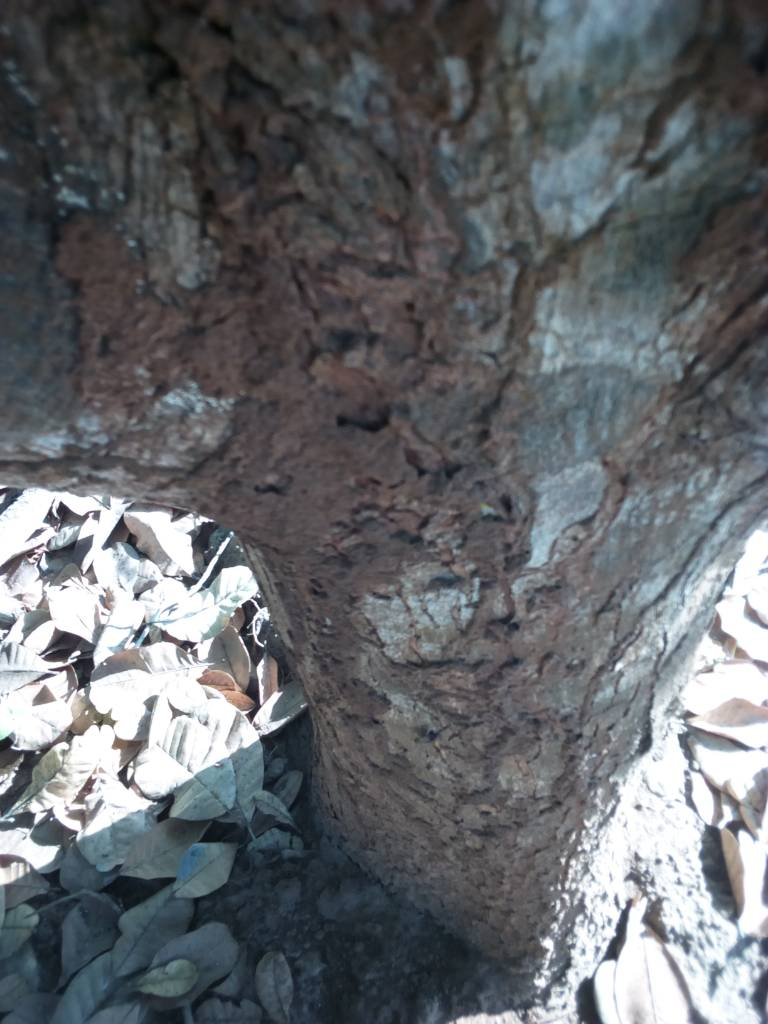Termites: (297, 55, 524, 813), (57, 227, 297, 546)
